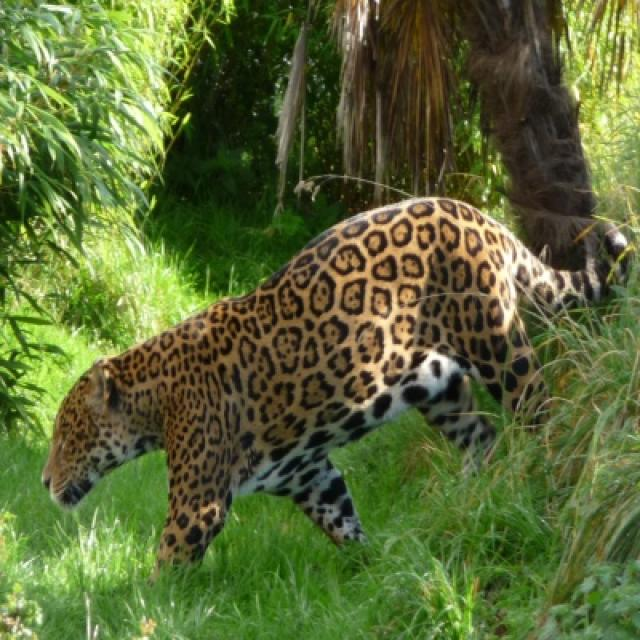Jaguar: (40, 197, 602, 568)
